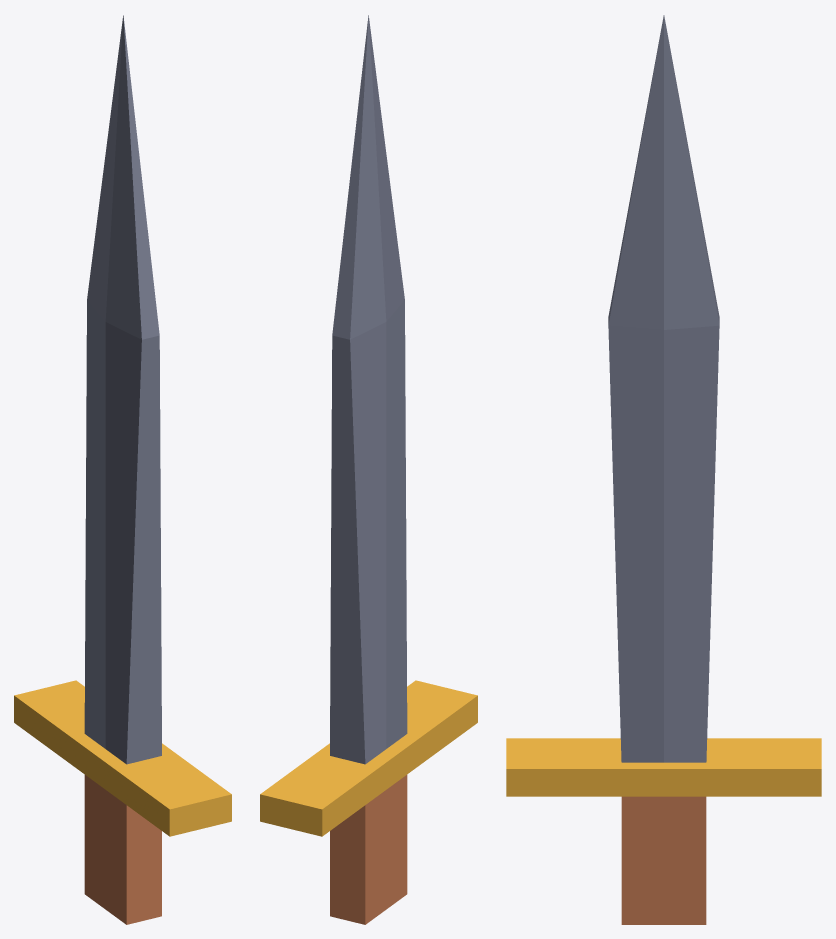
File: dagger.glb
3 renders of one model, left to right at view 1: azimuth 30°, elevation 25°; view 2: azimuth 150°, elevation 25°; view 3: azimuth 270°, elevation 25°, orthographic.
Parts seen in each view (by area): view 1: Dagger; view 2: Dagger; view 3: Dagger.
Boxes of the visible parts, x1,y1,x2,y2 form: Dagger: (14,15,231,924); Dagger: (260,15,477,924); Dagger: (506,15,821,924).
Bounding box in the file's own units: 0.0523 × 0.7178 × 0.2273.
1 material, 1 textured.
